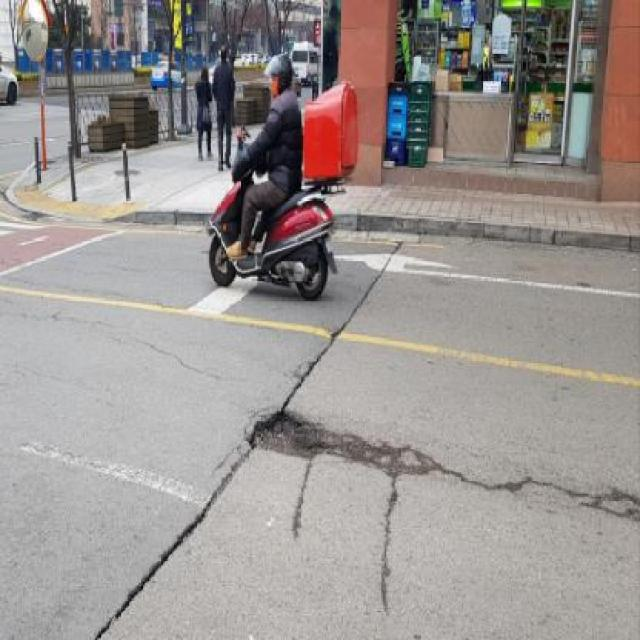Pothole: (238, 405, 337, 473)
